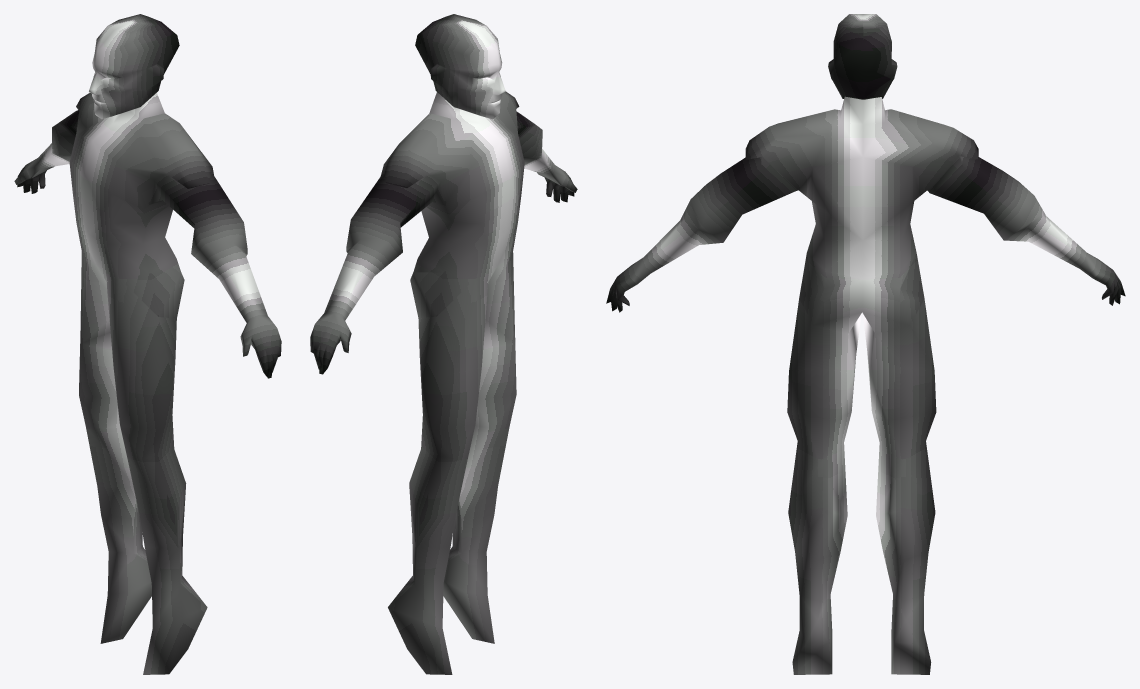
The model's file is bst53.obj.
The picture shows the model from 3 angles, left to right: view 1: azimuth 30°, elevation 25°; view 2: azimuth 150°, elevation 25°; view 3: azimuth 270°, elevation 25°; orthographic projection. The views are drawn at different scales.
Visible parts, largest first — view 1: AMBODY000, C_NAME000; view 2: AMBODY000, C_NAME000; view 3: AMBODY000, C_NAME000.
Part boxes in pixels (<box>): AMBODY000: <box>14,92,281,674</box>; C_NAME000: <box>89,14,179,119</box>; AMBODY000: <box>310,91,577,674</box>; C_NAME000: <box>415,14,505,119</box>; AMBODY000: <box>606,96,1125,674</box>; C_NAME000: <box>828,14,897,99</box>.
Size of the model in its own units: 1.45 by 8.92 by 6.37.
Materials: 2 (2 with a texture image).
